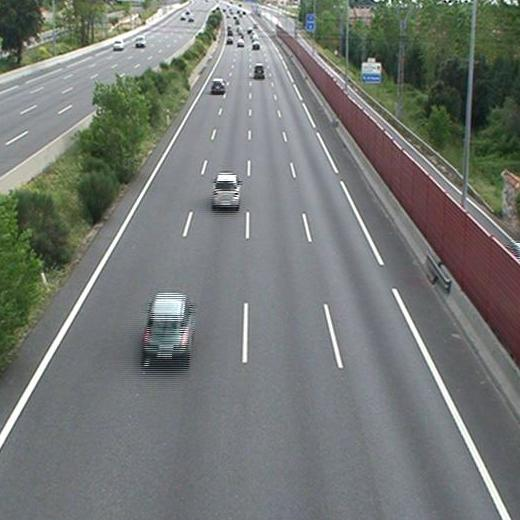car: (145, 293, 194, 357), (212, 175, 241, 208), (211, 79, 225, 93), (253, 63, 265, 77), (250, 41, 260, 50), (237, 38, 245, 48)
